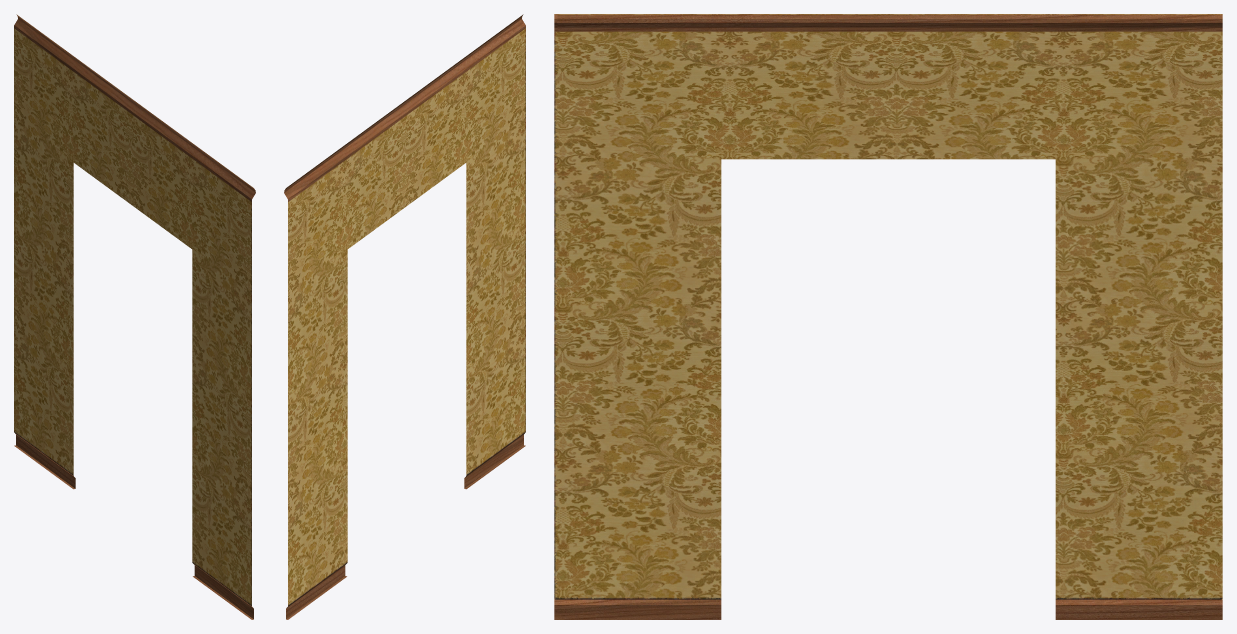
File: gold1_door.dae
The picture shows the model from 3 angles, left to right: view 1: azimuth 30°, elevation 25°; view 2: azimuth 150°, elevation 25°; view 3: azimuth 270°, elevation 25°; orthographic projection. The views are drawn at different scales.
Parts seen in each view (by area): view 1: Plane_005; view 2: Plane_005; view 3: Plane_005.
Part boxes in pixels (bbox=[...]): Plane_005: bbox=[14, 14, 255, 619]; Plane_005: bbox=[284, 14, 525, 619]; Plane_005: bbox=[554, 14, 1222, 619].
Bounding box in the file's own units: 0.0388 × 4 × 4.
Materials: 1 (1 with a texture image).
